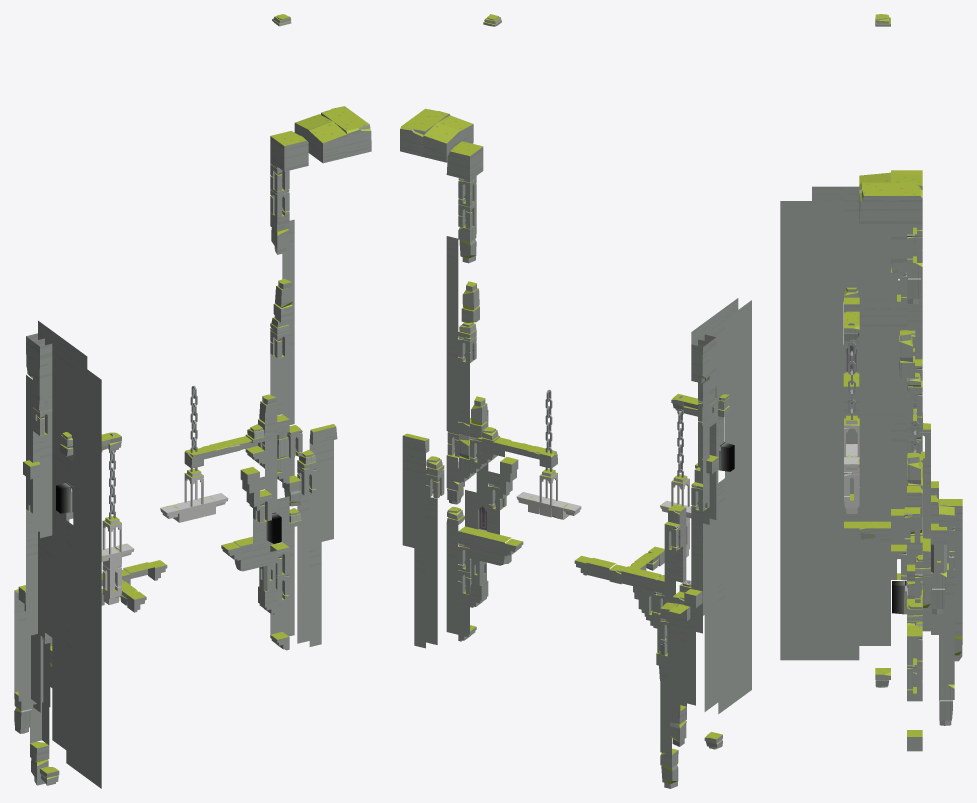
Rendered from Chunk_WeightsA.fbx.
3 renders of one model, left to right at view 1: azimuth 30°, elevation 25°; view 2: azimuth 150°, elevation 25°; view 3: azimuth 270°, elevation 25°, orthographic. The views are drawn at different scales.
Parts seen in each view (by area): view 1: _Combined_VisChild_Crush_Mat (×2), _Combined_VisChild_Crush_MatDark, _Combined_VisChild_CrushSpecial_Mat (×2); view 2: _Combined_VisChild_Crush_Mat (×3), _Combined_VisChild_Crush_MatDark, _Combined_VisChild_CrushSpecial_Mat (×2); view 3: _Combined_VisChild_Crush_Mat (×3), _Combined_VisChild_Crush_MatDark, _Combined_VisChild_CrushSpecial_Mat, _Combined_VisChild_Crush_Mat_Clip_Barrier4.
Boxes of the visible parts, x1,y1,x2,y2 form: _Combined_VisChild_Crush_Mat (×2): [14, 14, 371, 788]; _Combined_VisChild_Crush_MatDark: [240, 410, 289, 543]; _Combined_VisChild_CrushSpecial_Mat (×2): [101, 477, 228, 604]; _Combined_VisChild_Crush_Mat (×3): [400, 14, 751, 788]; _Combined_VisChild_Crush_MatDark: [465, 410, 518, 534]; _Combined_VisChild_CrushSpecial_Mat (×2): [516, 469, 691, 557]; _Combined_VisChild_Crush_Mat (×3): [780, 14, 962, 751]; _Combined_VisChild_Crush_MatDark: [891, 509, 906, 614]; _Combined_VisChild_CrushSpecial_Mat: [844, 408, 859, 513]; _Combined_VisChild_Crush_Mat_Clip_Barrier4: [848, 322, 855, 413].
Size of the model in its own units: 26.5 by 57.42 by 11.52.
7 materials, 7 textured.
